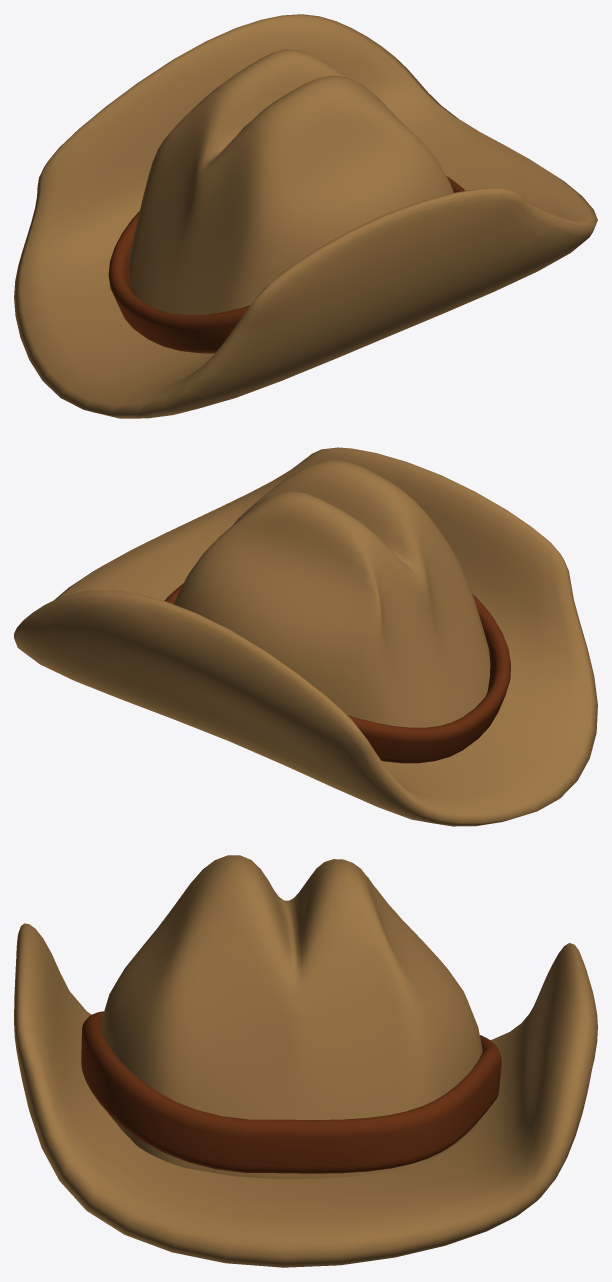
File: chapeau cow boy.fbx
3 views of the same model, one above another, from view 1: azimuth 30°, elevation 25°; view 2: azimuth 150°, elevation 25°; view 3: azimuth 270°, elevation 25° (orthographic). The views are drawn at different scales.
Parts seen in each view (by area): view 1: haut chapeau .001; view 2: haut chapeau .001; view 3: haut chapeau .001.
Part boxes in pixels (box(x1,y1,x2,y2)): haut chapeau .001: box(14, 14, 597, 418); haut chapeau .001: box(14, 447, 597, 826); haut chapeau .001: box(14, 855, 597, 1267).
Size of the model in its own units: 39.34 by 20.6 by 30.86.
